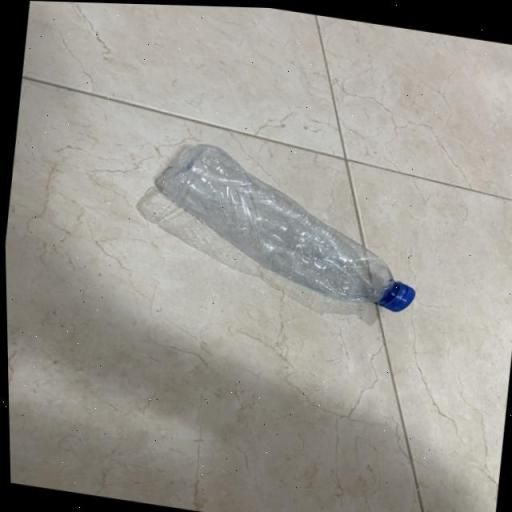plastic: (136, 127, 435, 321)
